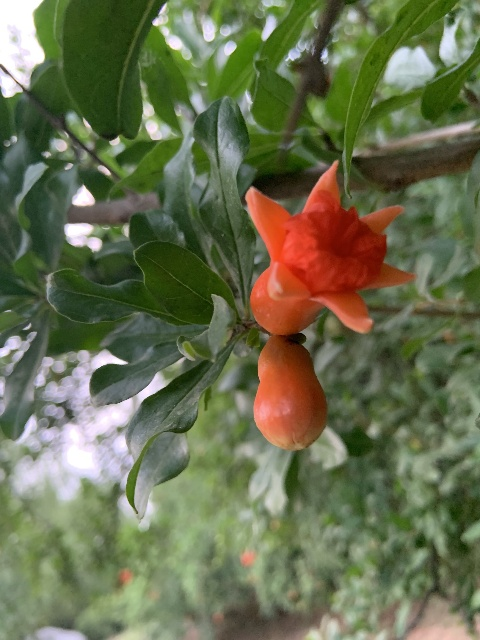bud: (253, 336, 326, 450)
flower: (243, 158, 416, 336)
